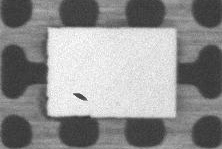DIE_INK: (74, 92, 88, 100)
